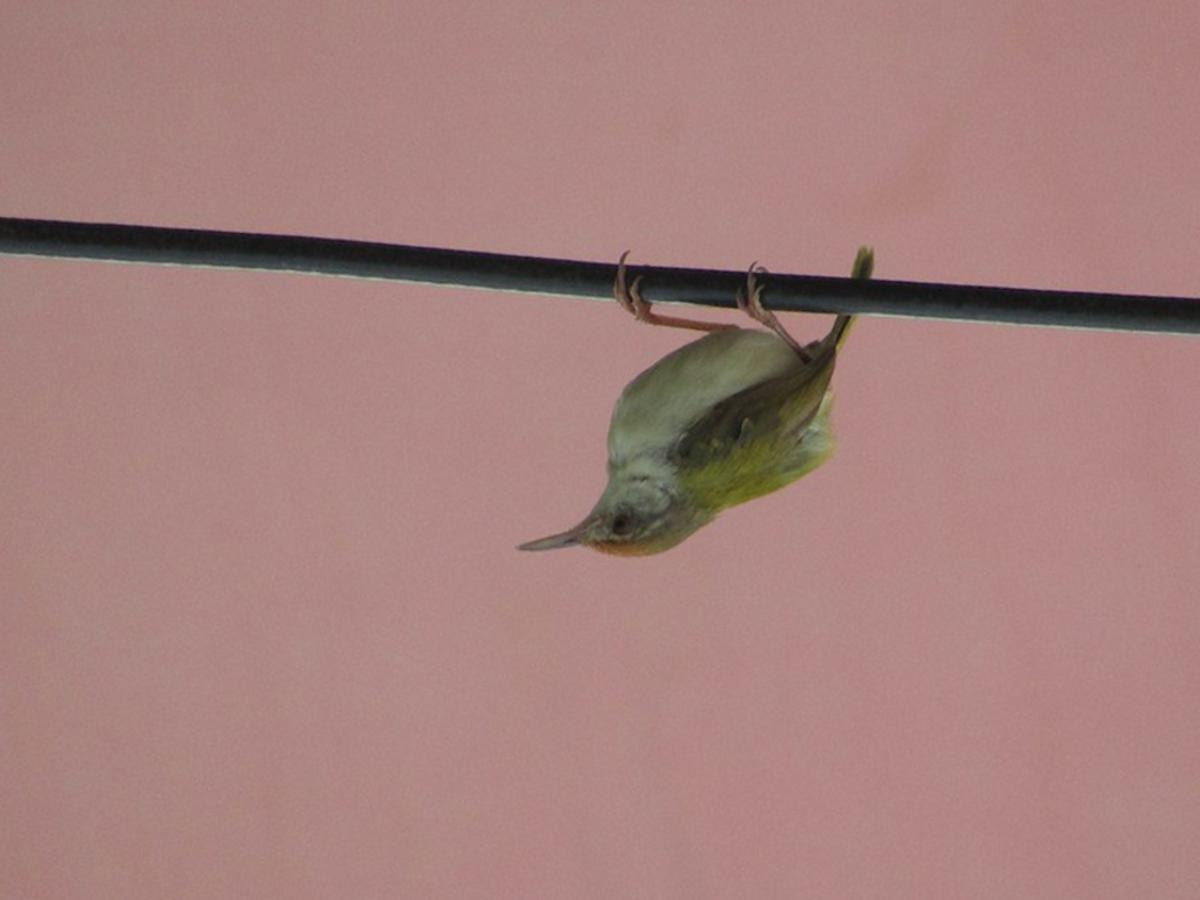tailorbird: (491, 232, 913, 611)
